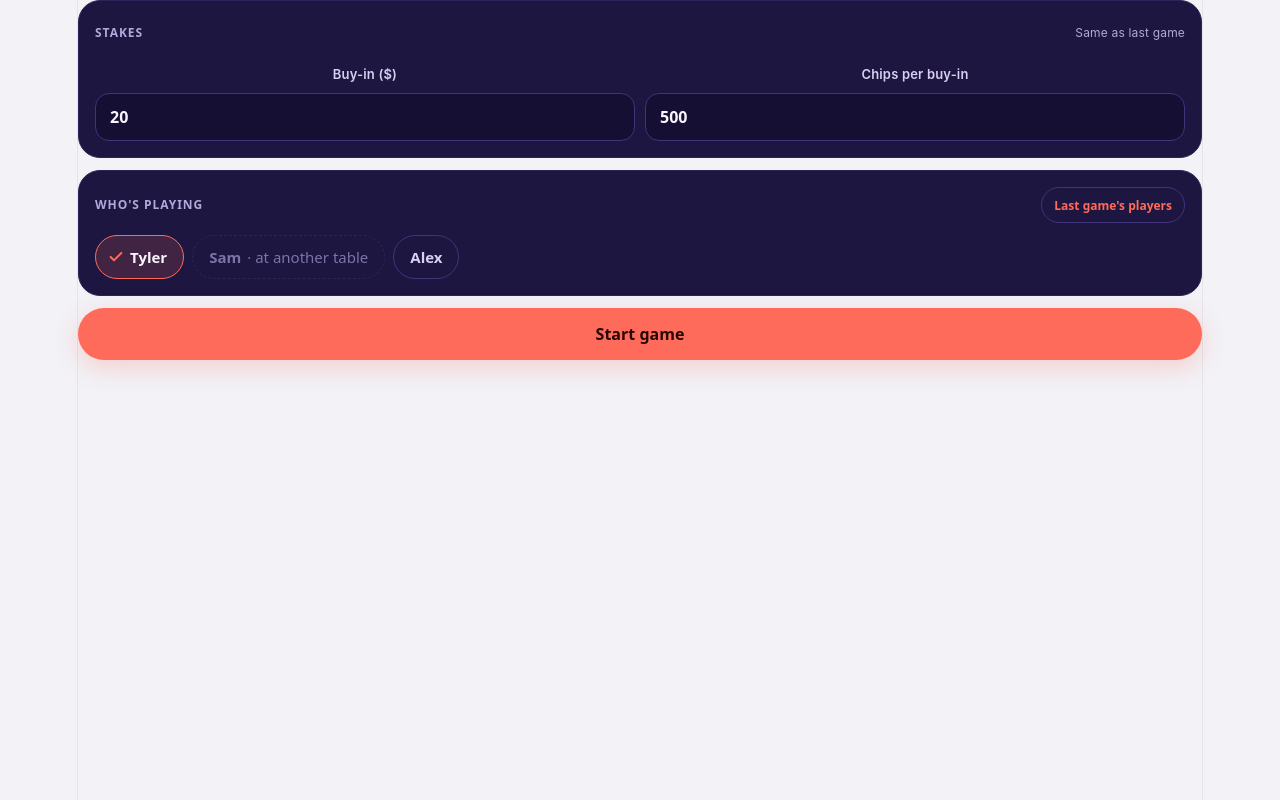
Test: NewGameForm › leaves out players at another table and needs two people
Expected: the button "Sam · at another table" is disabled, [192,235,385,279]
Click the button "Start game" at (640,334), box [78,308,1202,360]
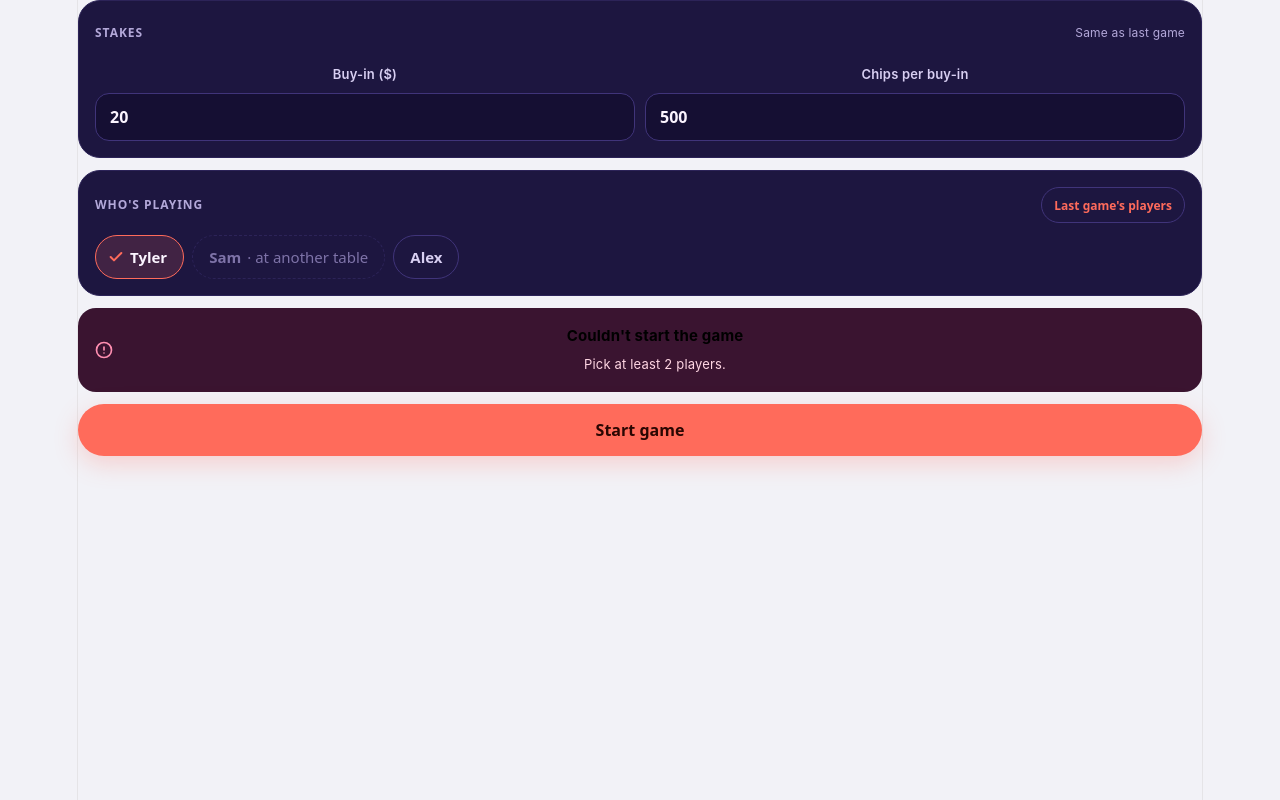
Expected: the text "Pick at least 2 players." is shown, [584,356,726,372]
